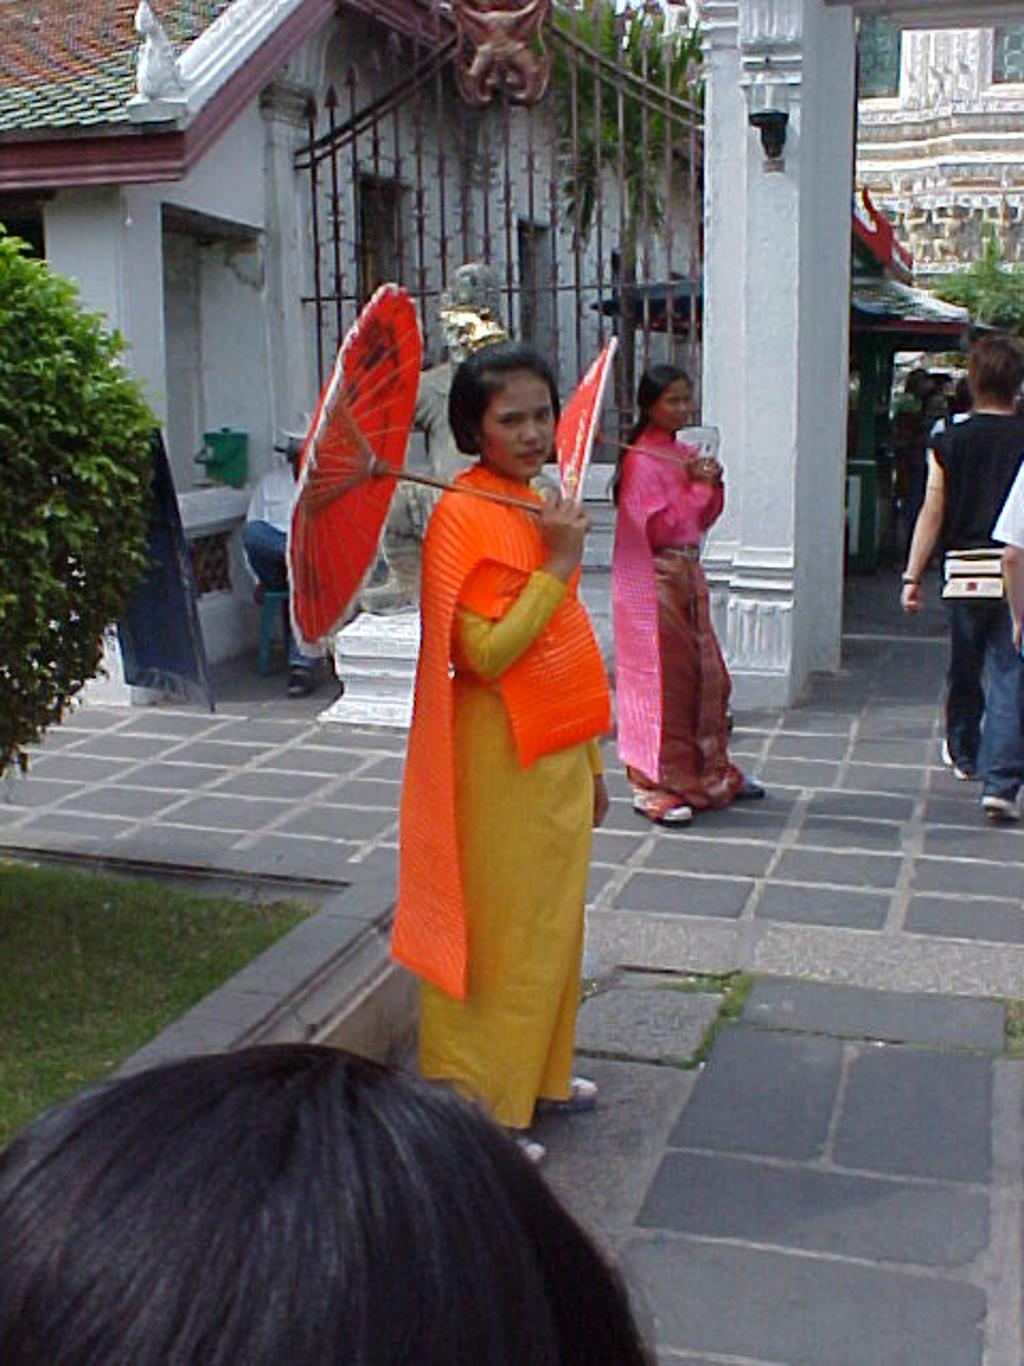face: (483, 371, 556, 475), (659, 378, 690, 429)
